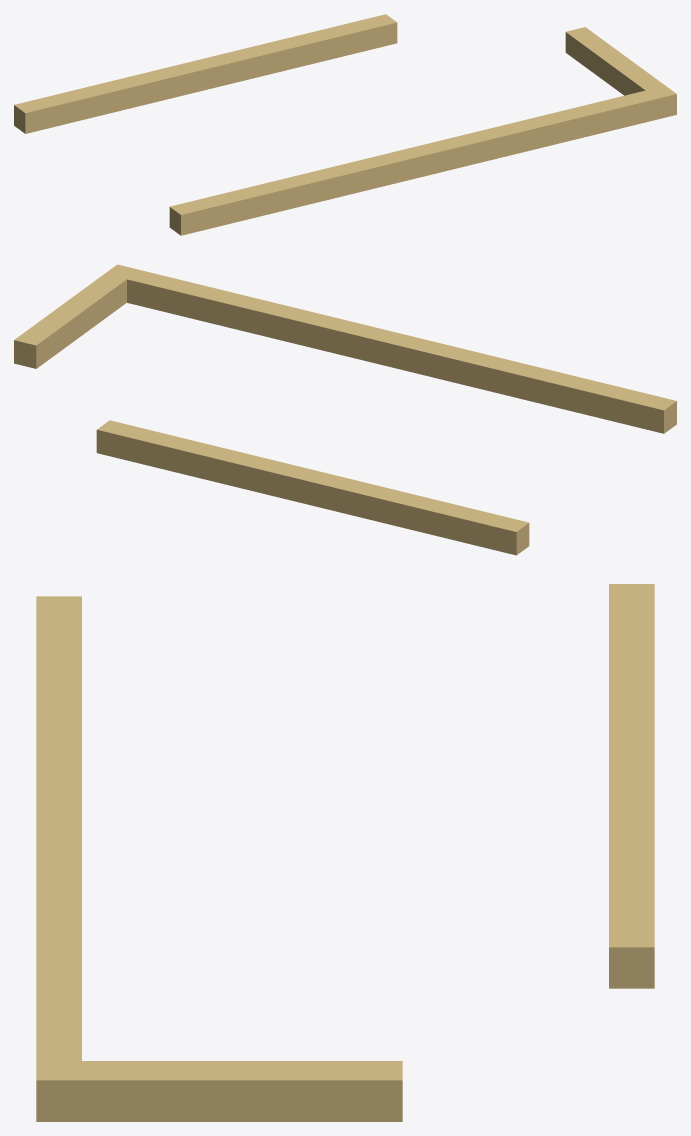
File: prop-button-shank-wire.fbx
3 views of the same model, one above another, from view 1: azimuth 30°, elevation 25°; view 2: azimuth 150°, elevation 25°; view 3: azimuth 270°, elevation 25° (orthographic). The views are drawn at different scales.
Visible parts, largest first — view 1: prop-button-shank-wire; view 2: prop-button-shank-wire; view 3: prop-button-shank-wire.
Part boxes in pixels (box(x1,y1,x2,y2)): prop-button-shank-wire: box(14, 14, 676, 235); prop-button-shank-wire: box(14, 264, 676, 555); prop-button-shank-wire: box(36, 584, 654, 1121).
Bounding box in the file's own units: 4.1 × 0.16 × 2.16.
